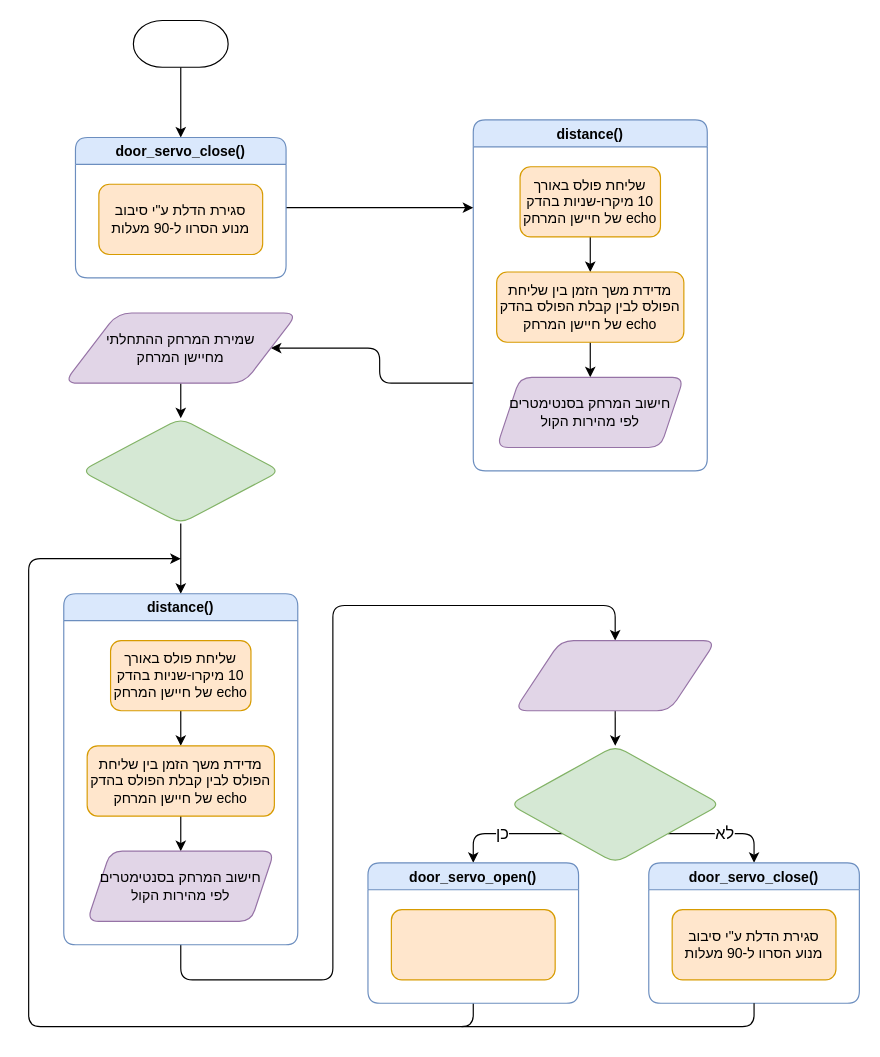
Some shapes in this 880 by 1057 pixel diagram are drawn without their labels. The shapes that lost their labels are listed below. From the top down, each one's centre as x and y in pixels, then its label:
point 180,43: התחלה
point 180,470: לולאה אינסופית
point 614,675: שמירת המרחק הנוכחי מחיישן המרחק
point 614,804: האם המרחק הנוכחי קטן יותר מהמרחק ההתחלתי?
point 472,944: פתיחת הדלת ע"י סיבוב מנוע הסרוו ל-0 מעלות
